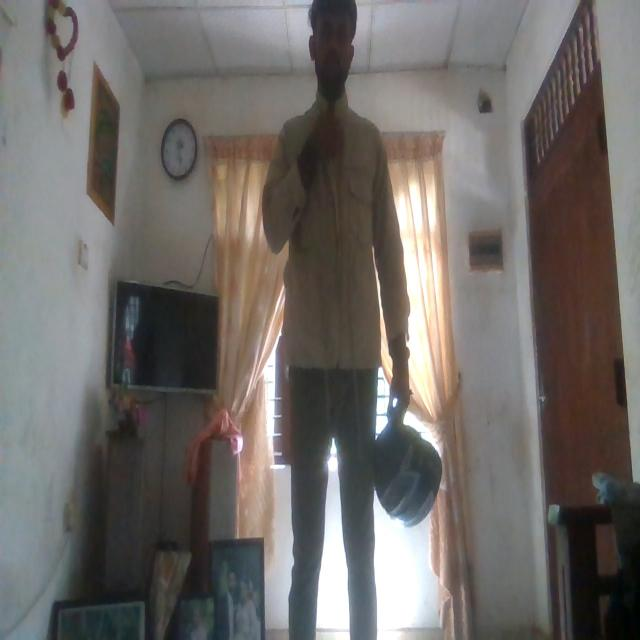Jacket_Wearer: (256, 88, 412, 382)
Person: (248, 0, 414, 640)
